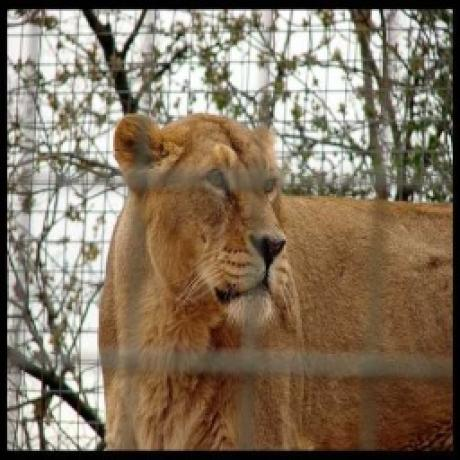Lion: (97, 105, 455, 450)
